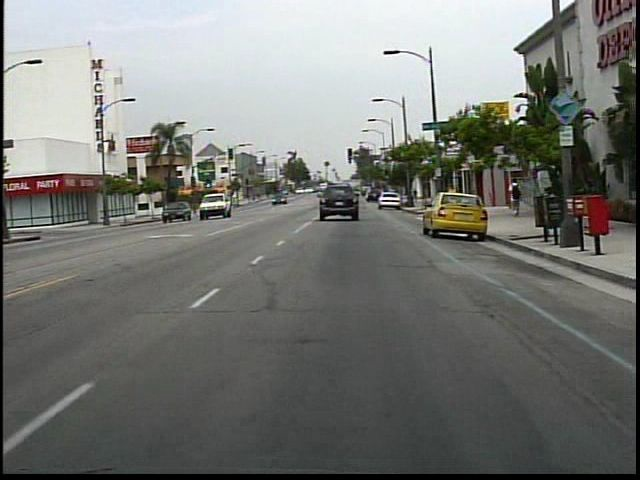person: (503, 174, 527, 222)
